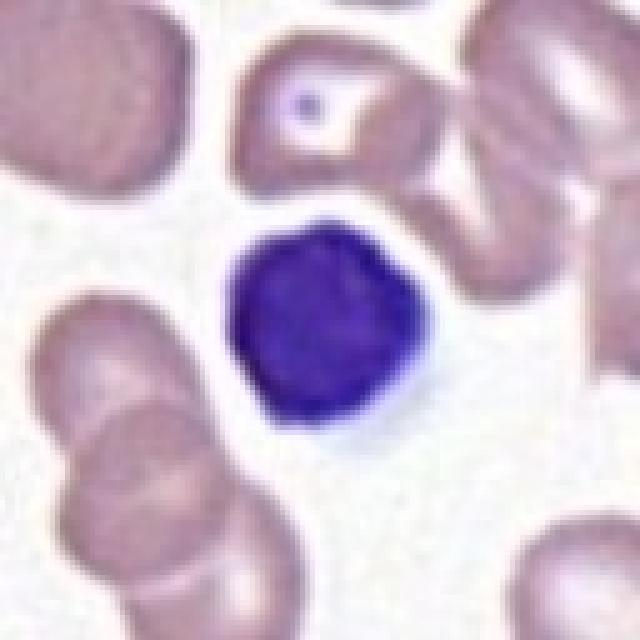lympho: (218, 213, 443, 441)
